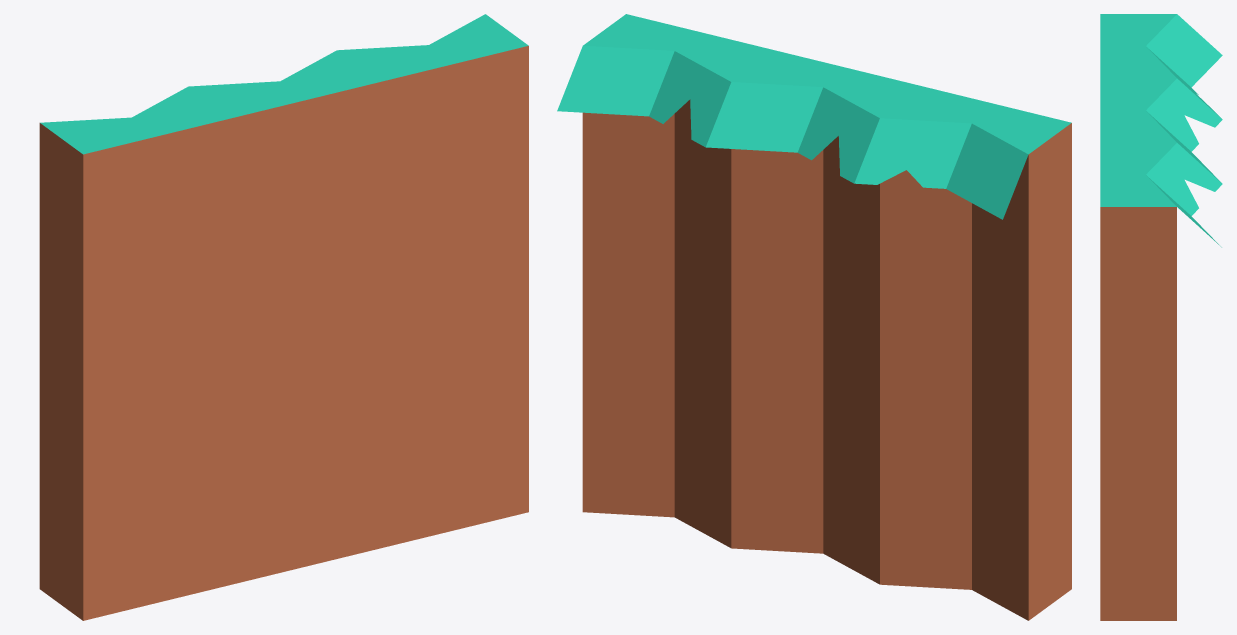
File: cliff_top_rock.glb
3 renders of one model, left to right at view 1: azimuth 30°, elevation 25°; view 2: azimuth 150°, elevation 25°; view 3: azimuth 270°, elevation 25°, orthographic. The views are drawn at different scales.
Parts seen in each view (by area): view 1: cliff_top_rock; view 2: cliff_top_rock; view 3: cliff_top_rock.
Boxes of the visible parts, bbox=[...] form: cliff_top_rock: bbox=[39, 14, 528, 620]; cliff_top_rock: bbox=[557, 14, 1071, 620]; cliff_top_rock: bbox=[1100, 14, 1222, 620].
Size of the model in its own units: 1 by 1 by 0.2685.
